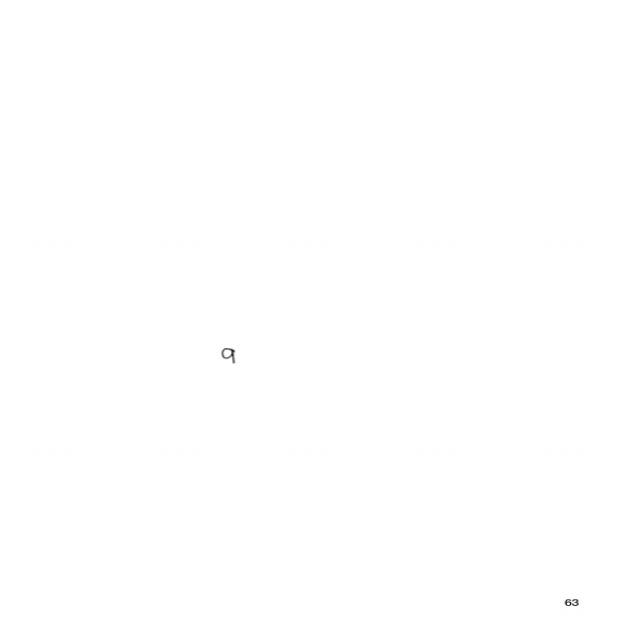9 -nine-: (218, 345, 237, 366)
